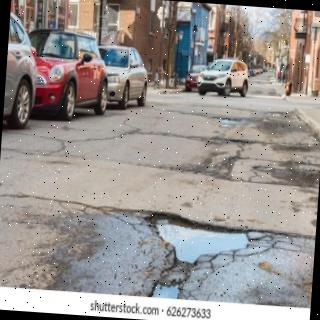pothole: (144, 211, 248, 299)
